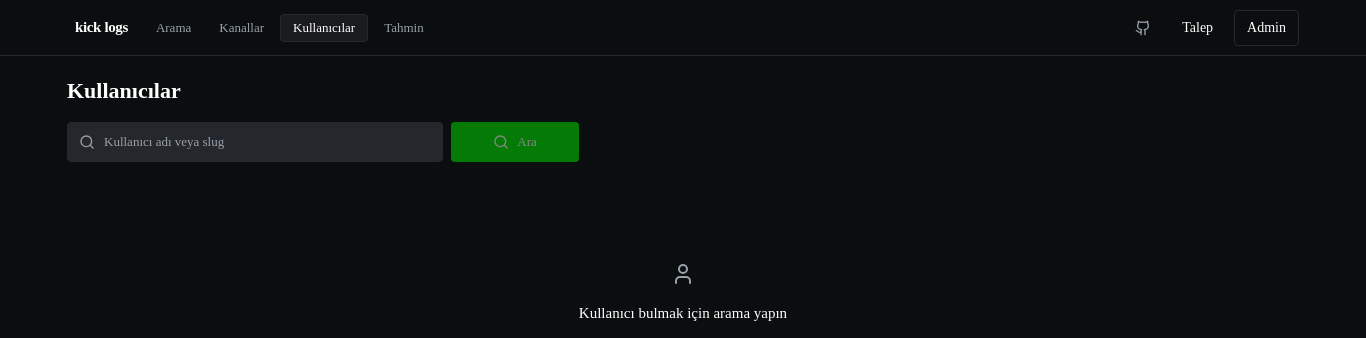
it: users directory interaction › ignores stale append resolve after a replacement search
This screenshot has width=1366, height=338.
In the search field: (255, 142) [67,122,443,162], type "alpha"
Then press Enter
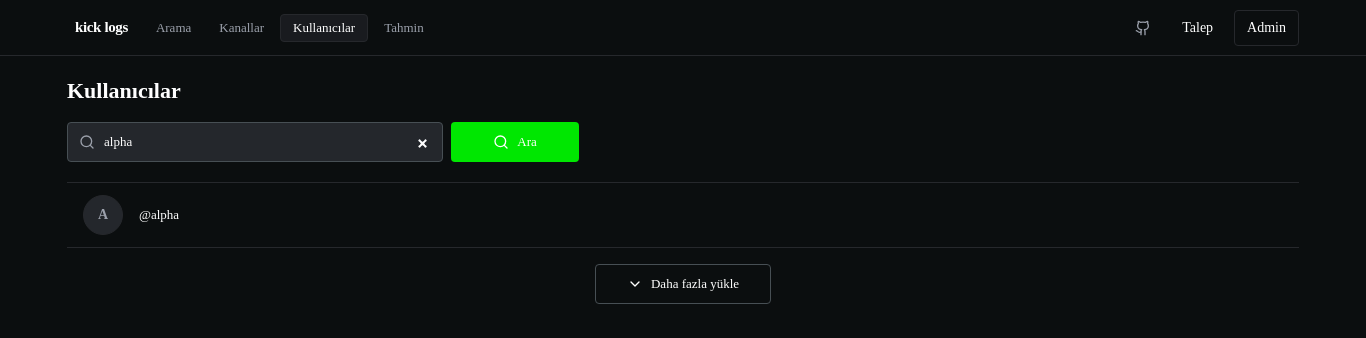
Click the button "Daha fazla yükle": (683, 284) [595,264,771,304]
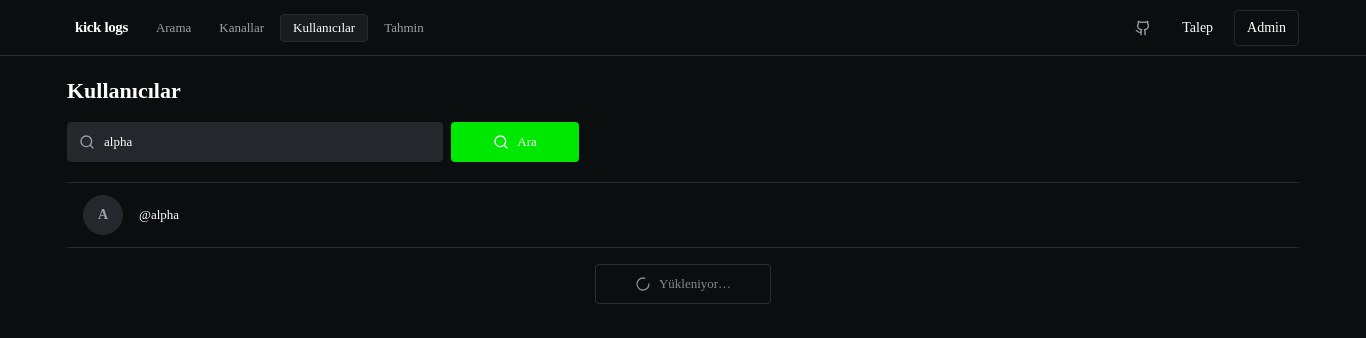
Replace the text in the search field with "beta": (255, 142) [67,122,443,162]
Then press Enter
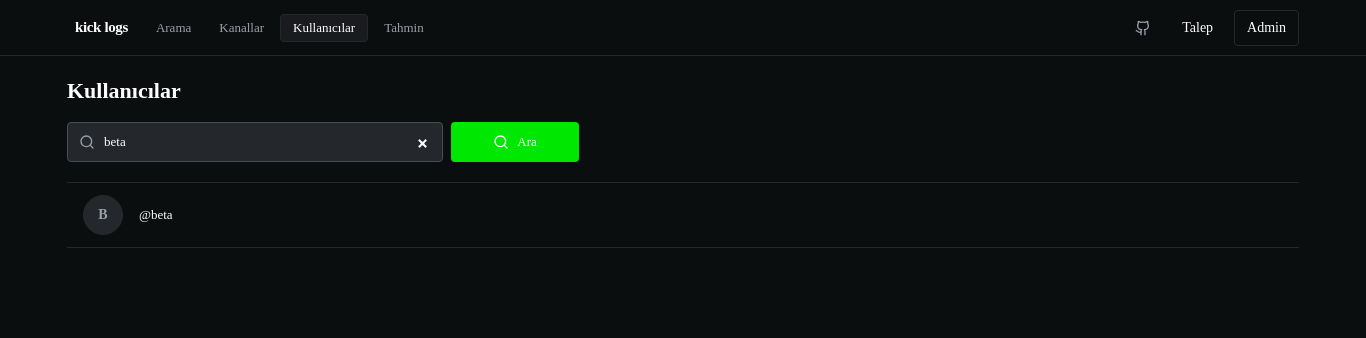
expect the link "B @beta" is shown: met, box [83,195,173,235]
expect the link "alpha" is gone: met
